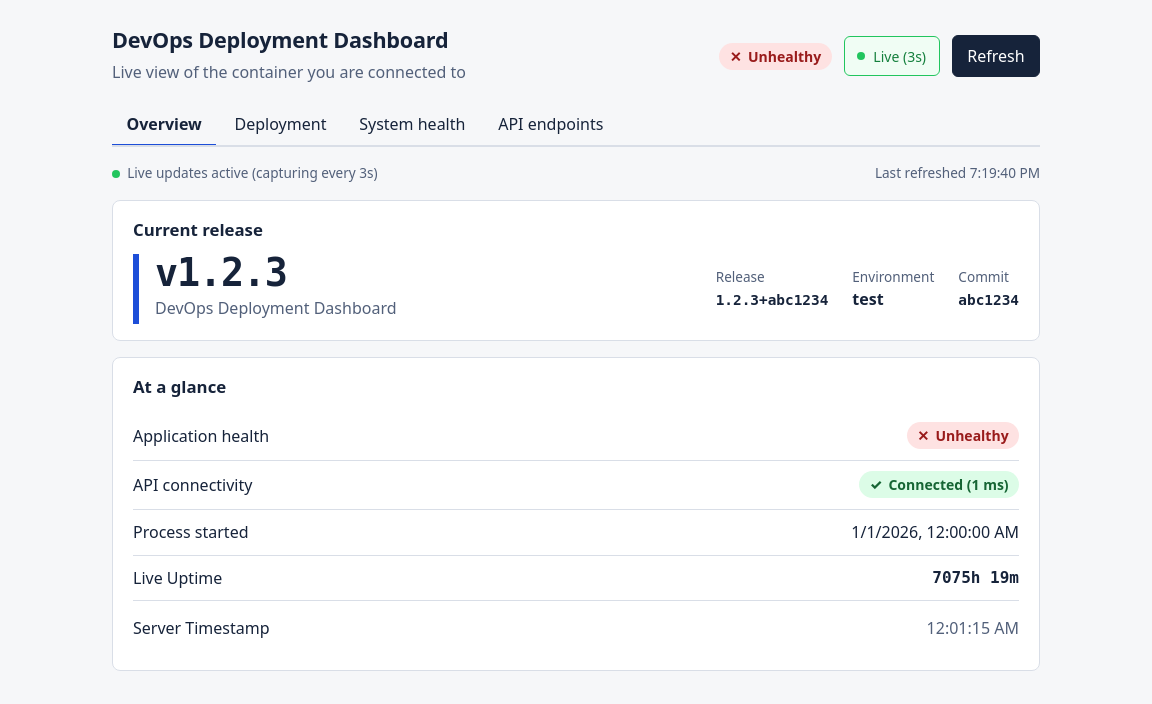
Test: App › reports not-ready when readiness returns 503
Expected: the text "v1.2.3" is shown, [155, 250, 287, 295]
Click the button "System health" at (412, 126), box [345, 104, 480, 147]
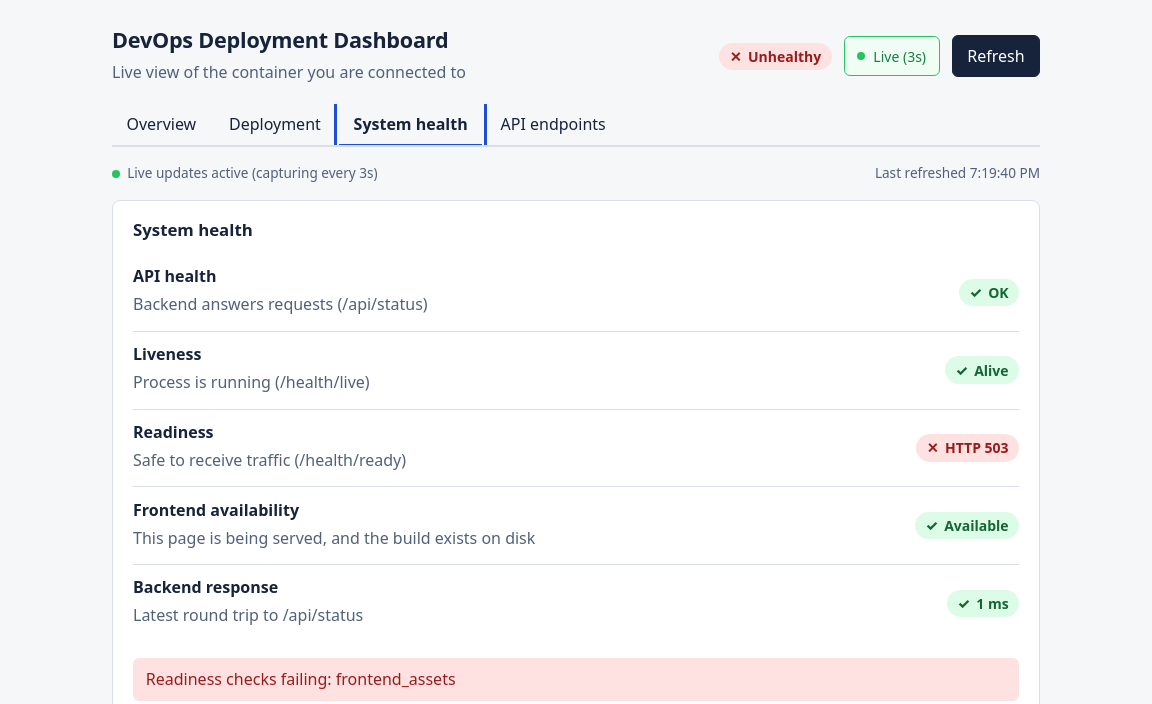
Result: the message shows "frontend_assets" at [336, 668, 456, 690]
